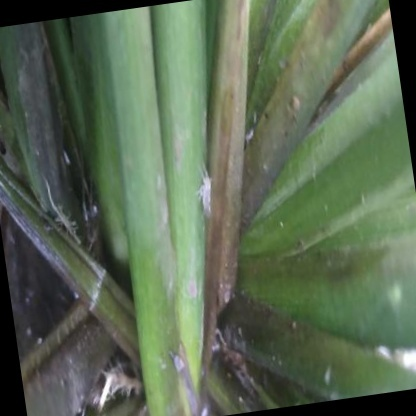Brown_hopper: (193, 153, 224, 233)
